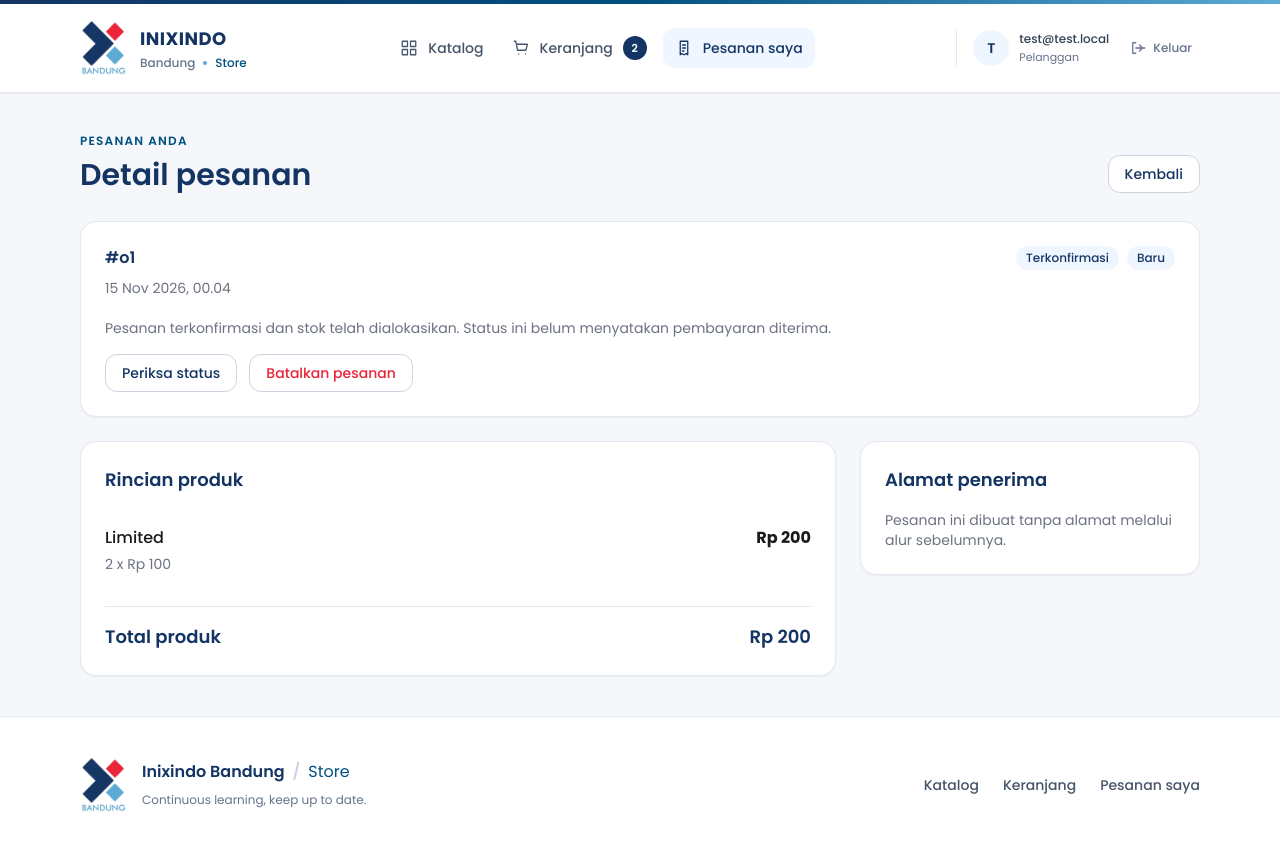
Test: order cancellation › asks for confirmation, sends the reason and shows the cancelled order
This screenshot has width=1280, height=852.
Click the button "Batalkan pesanan".
click(331, 373)  # box [249,354,413,392]
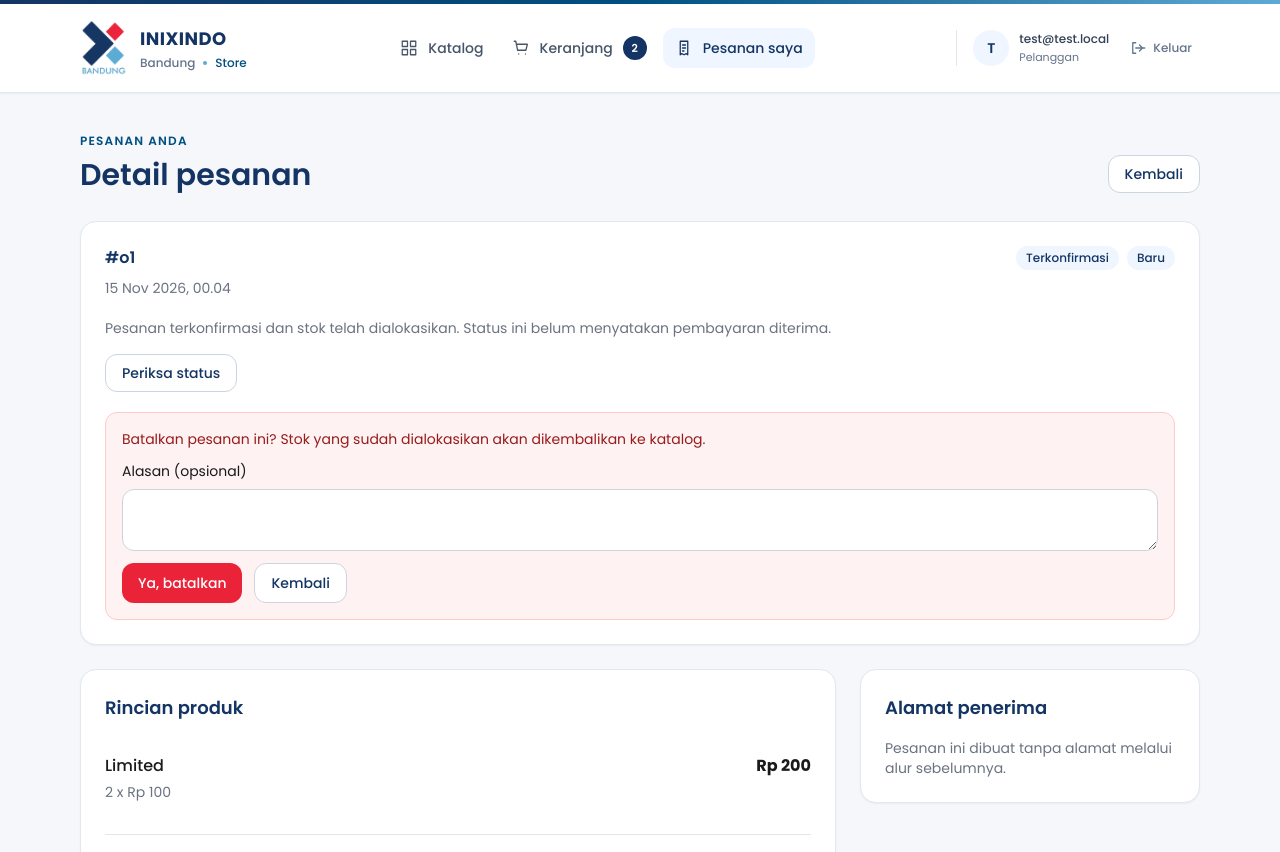
Type "Ganti" into the text box labelled "Alasan (opsional)".
click(640, 520); type("Ganti")  # box [122,489,1158,551]
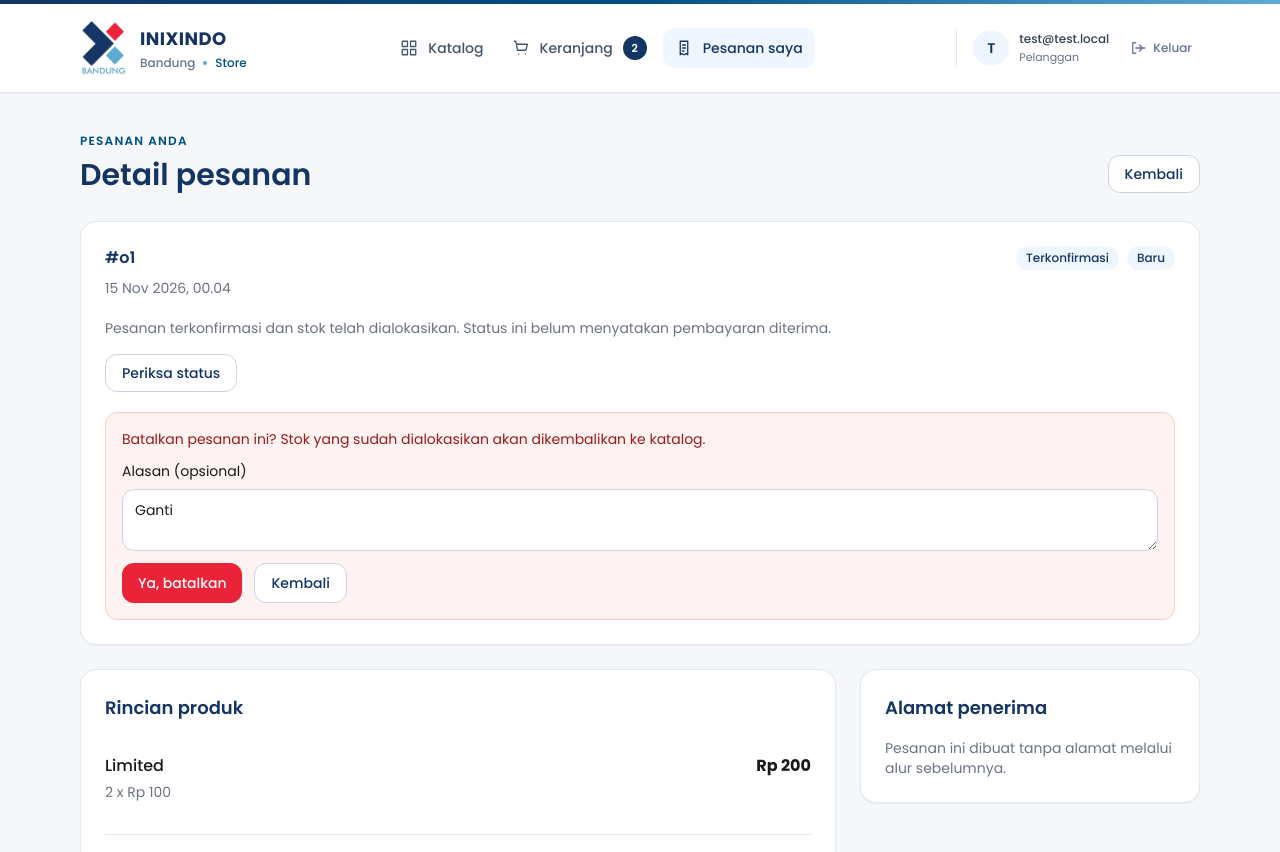
Click the button "Ya, batalkan".
click(182, 583)  # box [122,563,242,603]
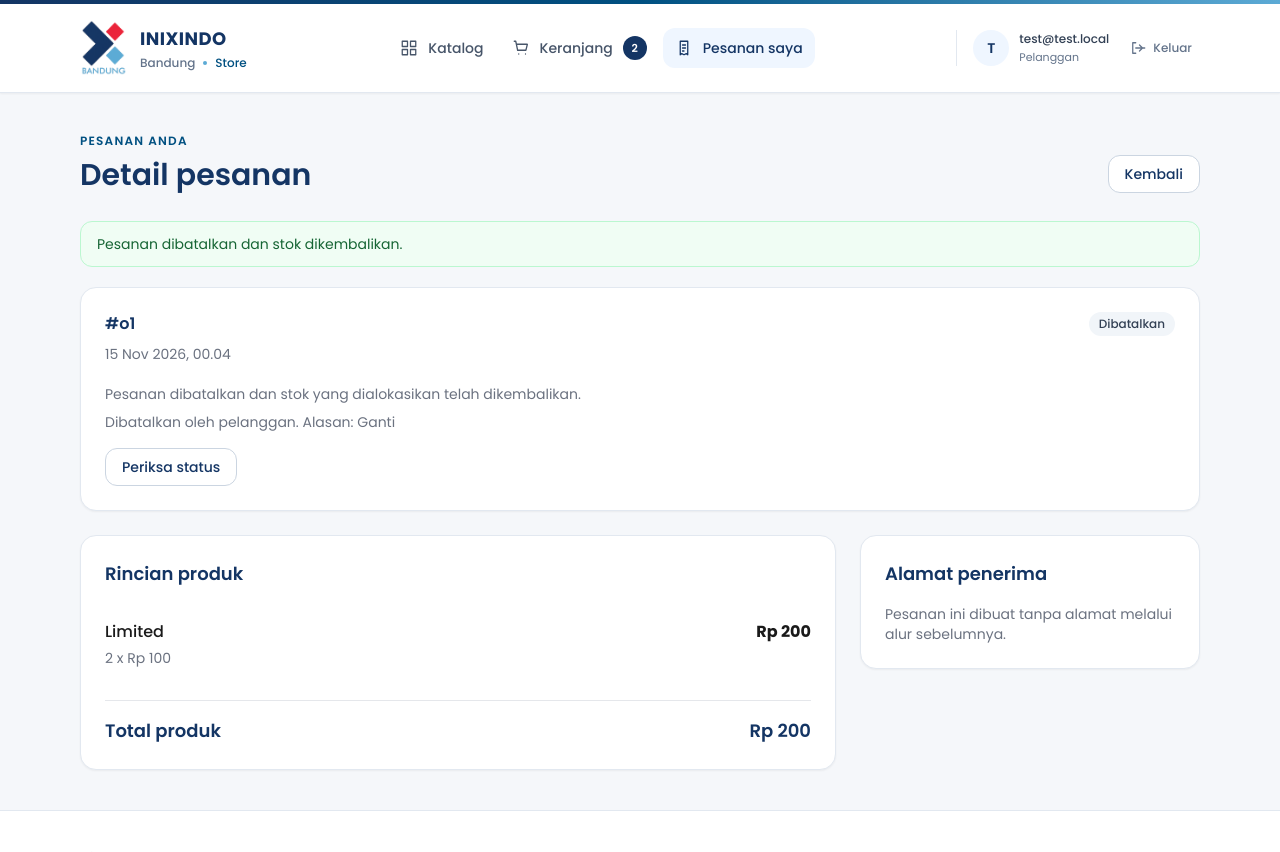
Expected: the text "Pesanan dibatalkan dan stok dikembalikan." is shown, [80,221,1200,267]
